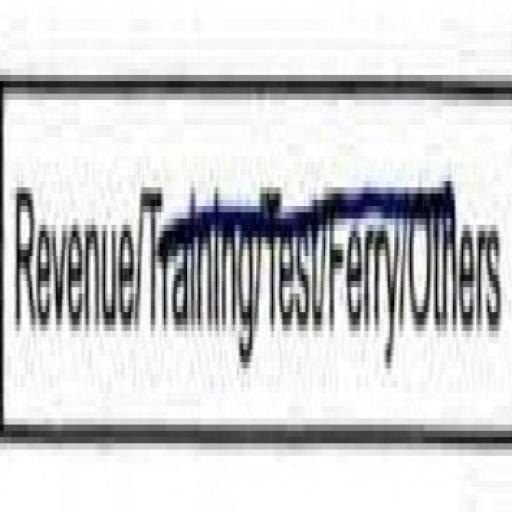check: (1, 36, 139, 493)
